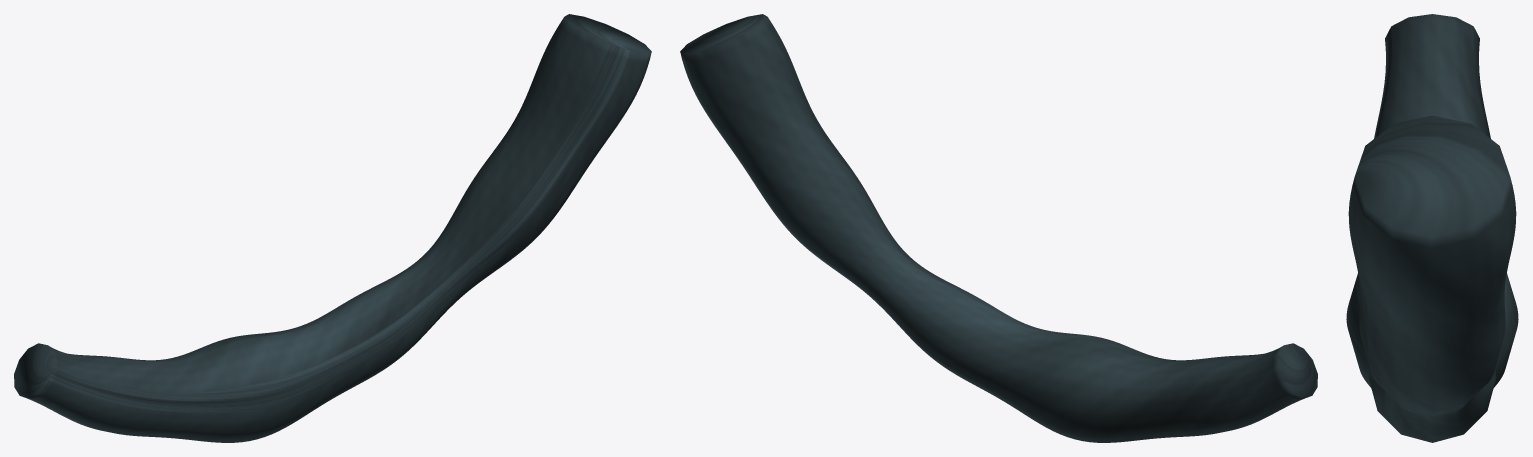
Rendered from SM_RelicArc_2.fbx.
The picture shows the model from 3 angles, left to right: view 1: azimuth 30°, elevation 25°; view 2: azimuth 150°, elevation 25°; view 3: azimuth 270°, elevation 25°; orthographic projection. The views are drawn at different scales.
Parts seen in each view (by area): view 1: SM_RelicArc_2.001; view 2: SM_RelicArc_2.001; view 3: SM_RelicArc_2.001.
Boxes of the visible parts, <box> form: SM_RelicArc_2.001: <box>14,14,651,442</box>; SM_RelicArc_2.001: <box>680,14,1317,442</box>; SM_RelicArc_2.001: <box>1346,14,1518,442</box>.
Size of the model in its own units: 2060 by 300 by 1046.
